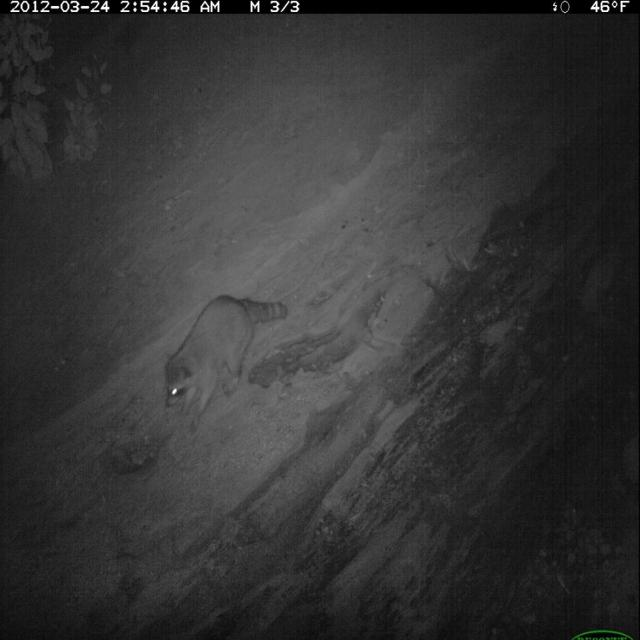raccoon: (161, 289, 294, 441)
